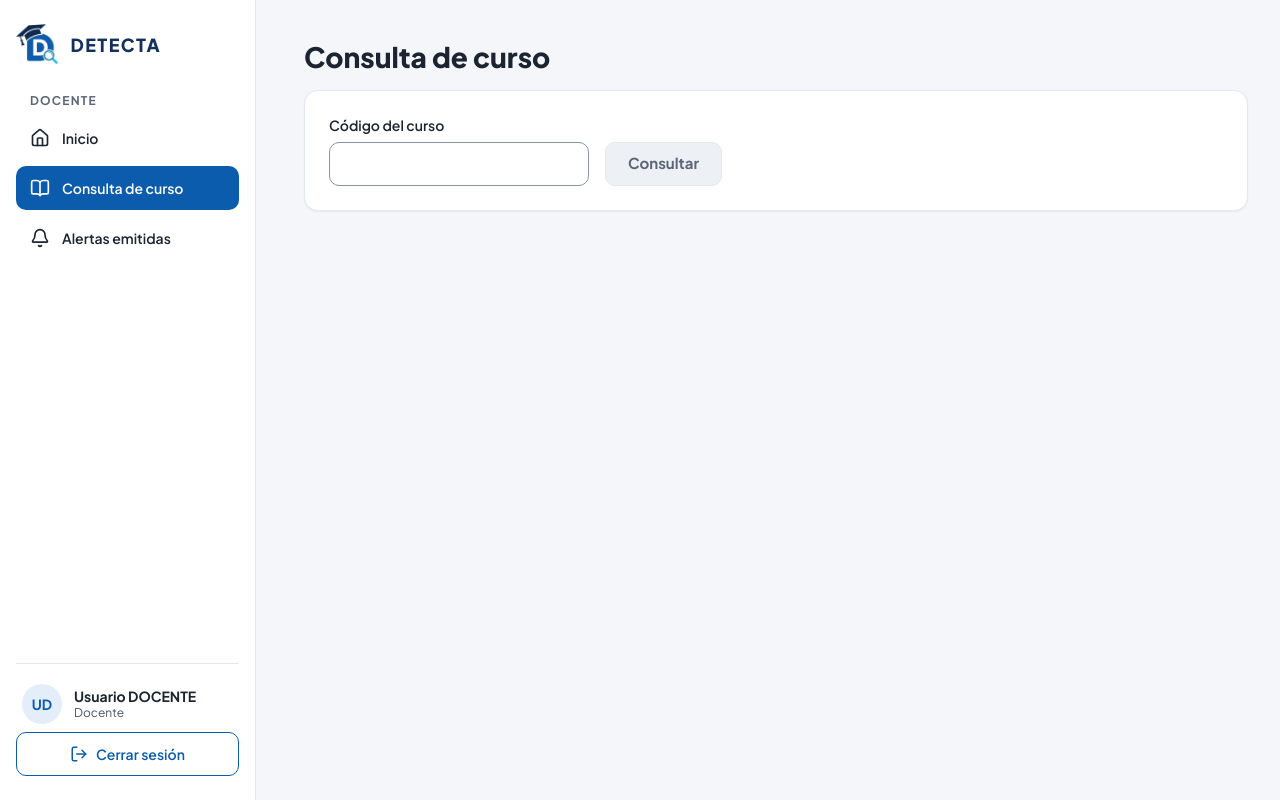
Test case: Consulta de curso (CUD01, Docente) › el código lleva al listado del curso y viaja codificado en la URL
The image size is (1280, 800).
In the field labelled "Código del curso": (459, 164) [329,142,589,186], type "IS/101 A"
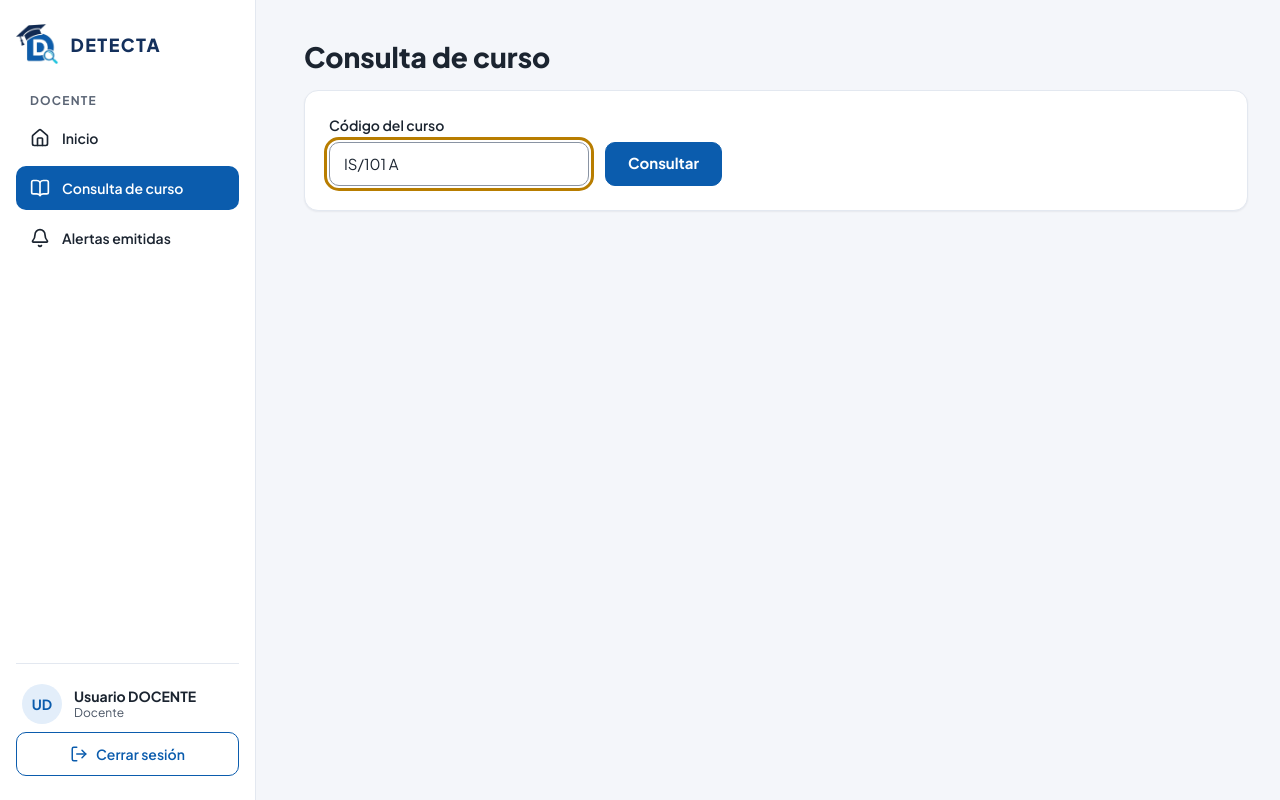
Click the button "Consultar": (664, 164) [605,142,722,186]
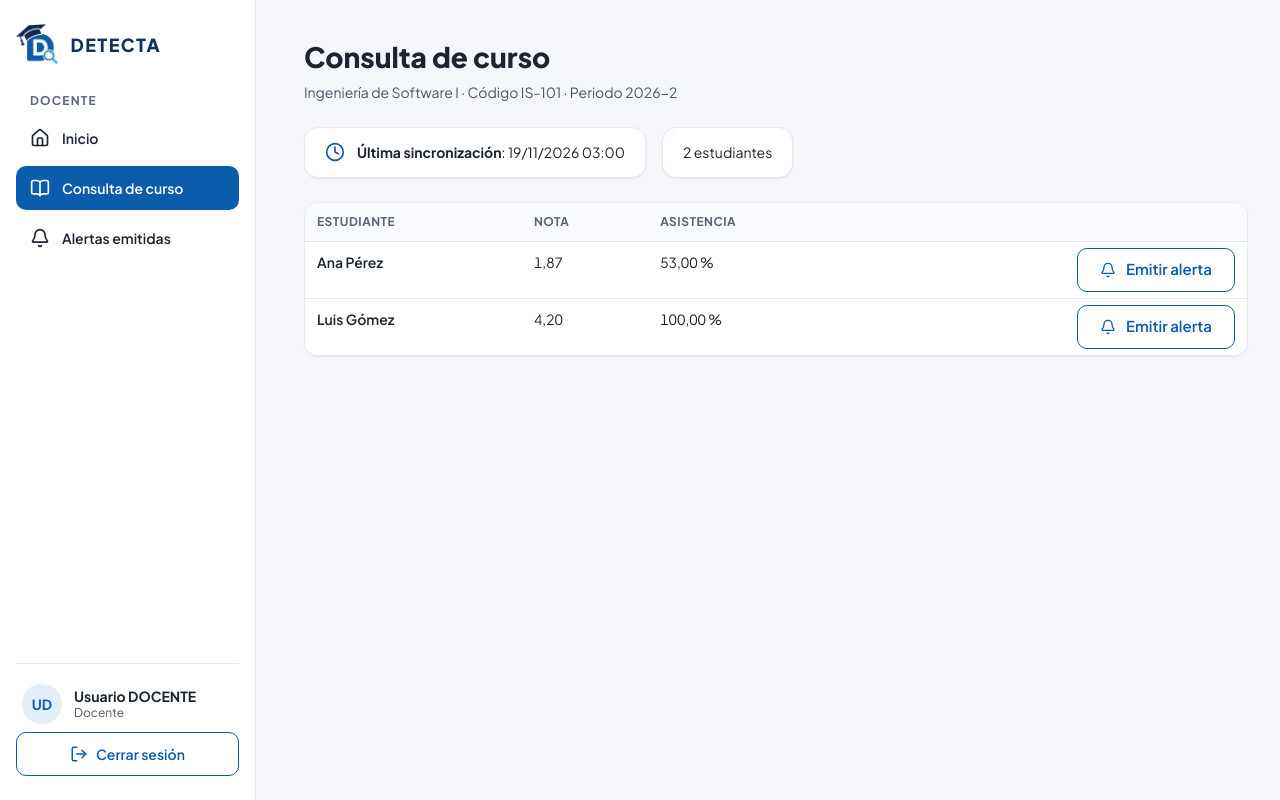
Expected: the column heading "Ana Pérez" is shown, [305,241,522,298]
